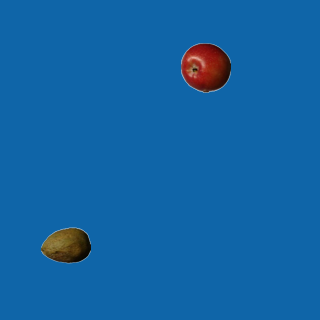Apple Braeburn: (180, 42, 230, 92)
Papaya: (40, 220, 90, 270)
